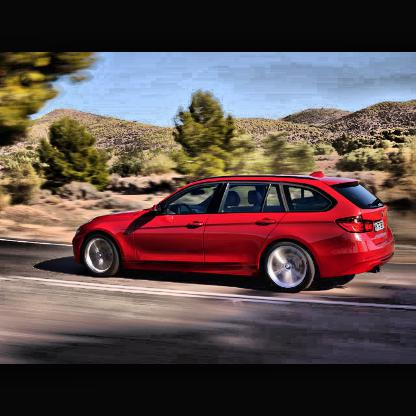BMW 3 Series Wagon 2012: (59, 167, 407, 320)
